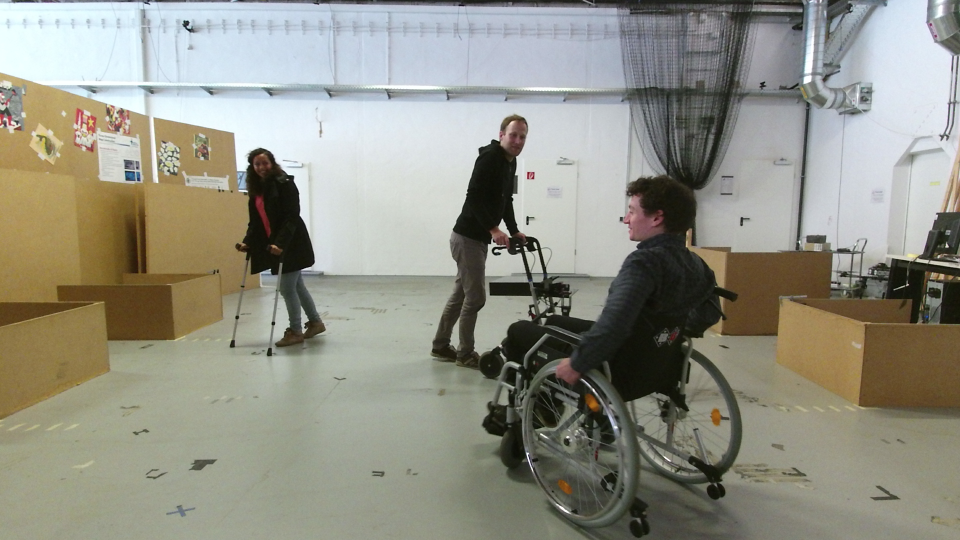crutches: (224, 142, 329, 359)
wheelchair: (477, 168, 748, 539)
